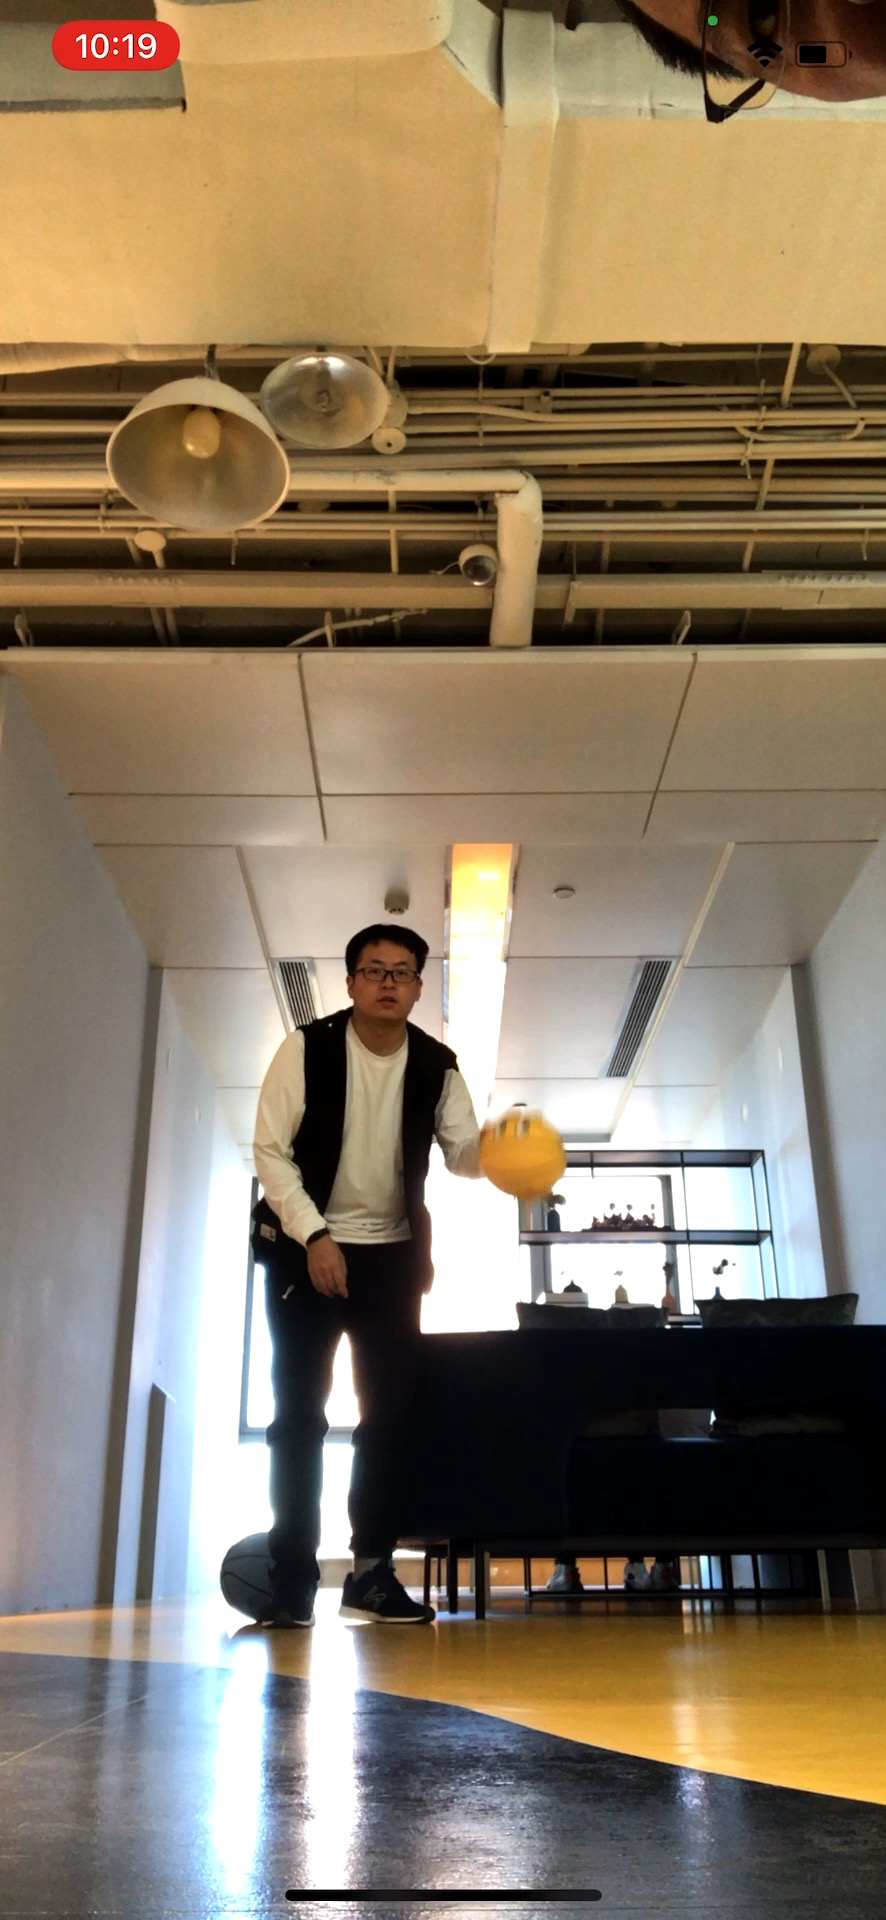ball: (478, 1108, 567, 1196), (218, 1533, 278, 1622)
